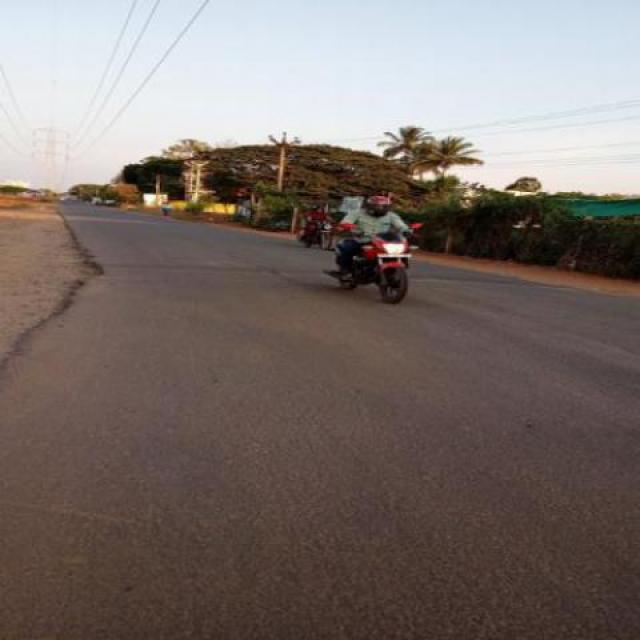Unmarked Bump: (89, 260, 323, 276), (411, 272, 569, 288)
